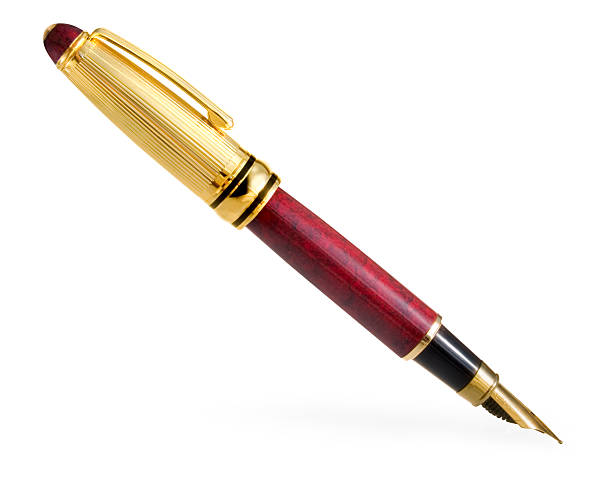pen: (34, 14, 579, 456)
